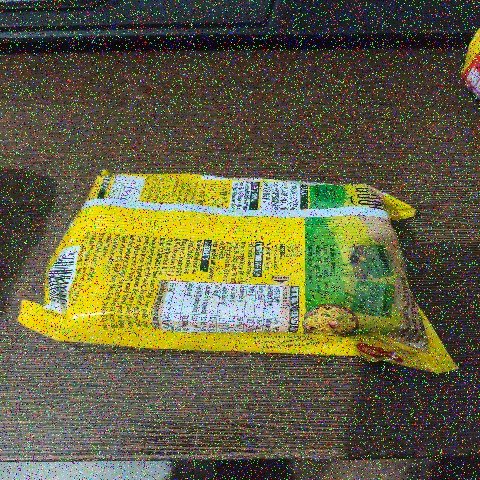maggi: (0, 138, 454, 393)
